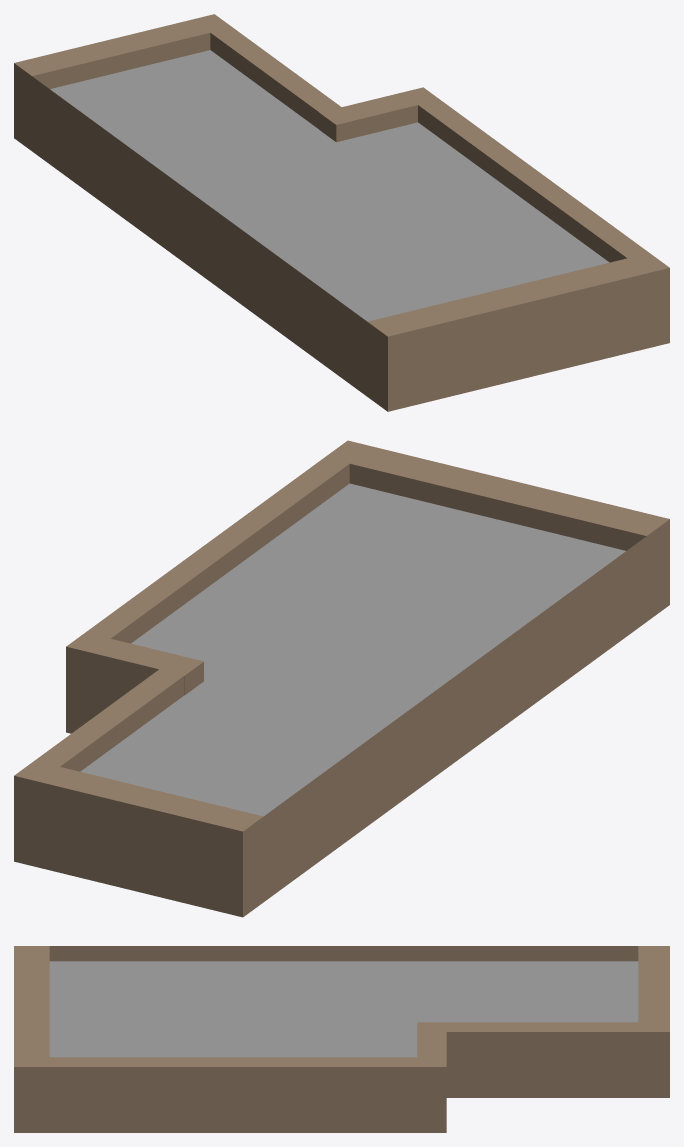
File: garden.fbx
3 views of the same model, one above another, from view 1: azimuth 30°, elevation 25°; view 2: azimuth 150°, elevation 25°; view 3: azimuth 270°, elevation 25° (orthographic). The views are drawn at different scales.
Visible parts, largest first — view 1: Cube; view 2: Cube; view 3: Cube.
Part boxes in pixels (box(x1,y1,x2,y2)): Cube: box(14, 14, 669, 411); Cube: box(14, 440, 669, 917); Cube: box(14, 946, 669, 1132).
Size of the model in its own units: 56.83 by 14.48 by 130.
